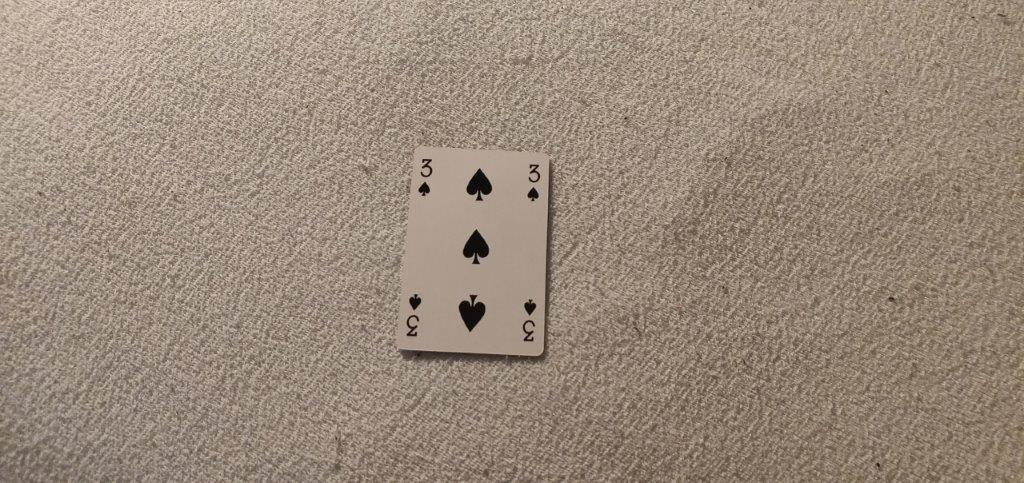3S: (414, 152, 433, 201), (524, 162, 541, 203)
